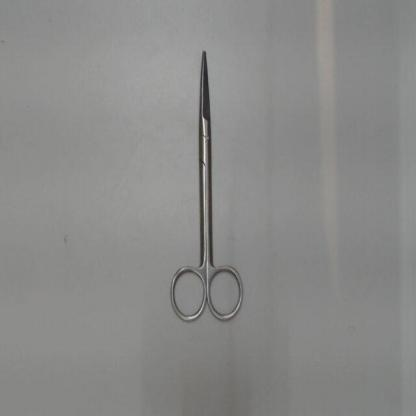Curved Mayo Scissors: (164, 44, 249, 328)
